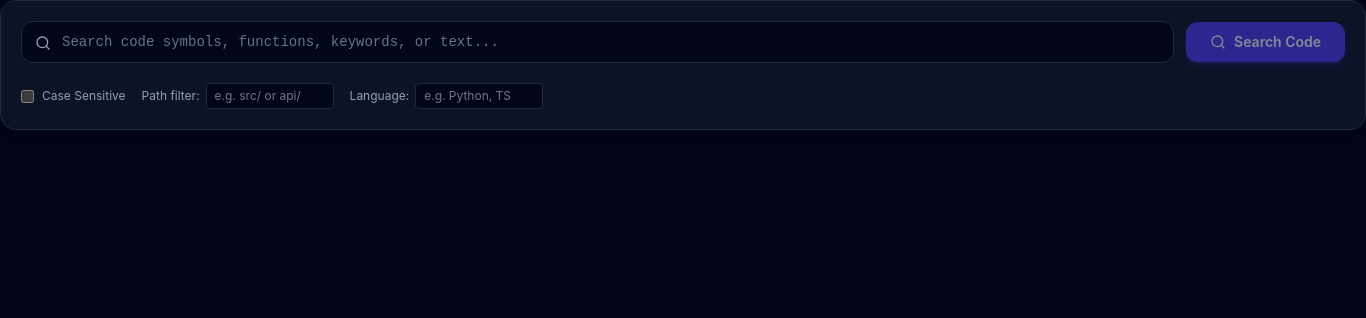
Test: CodeSearchView › displays empty state when no matches found
The width and height of the screenshot is (1366, 318).
Type "nonexistent_symbol" into the field with placeholder "Search code symbols, functions, keywords, or text..." at [598, 42], box [21, 21, 1174, 63]
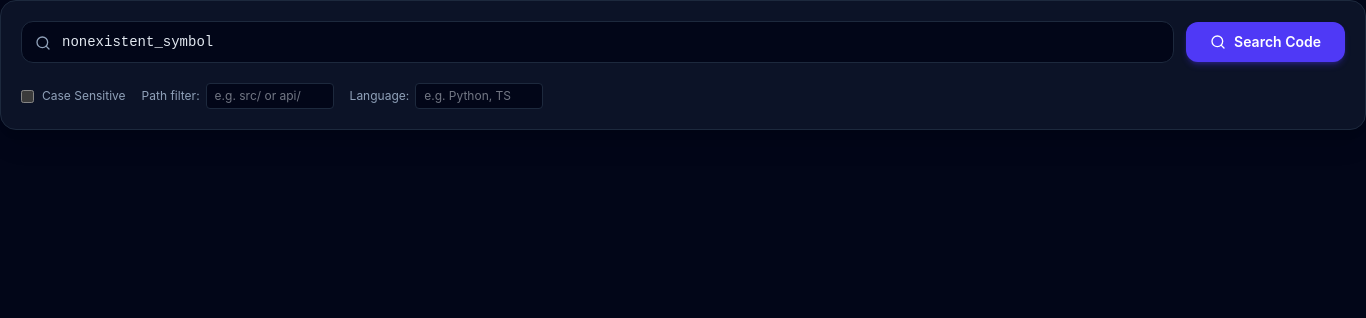
Click the button "Search Code" at [1266, 42], box [1186, 22, 1345, 62]
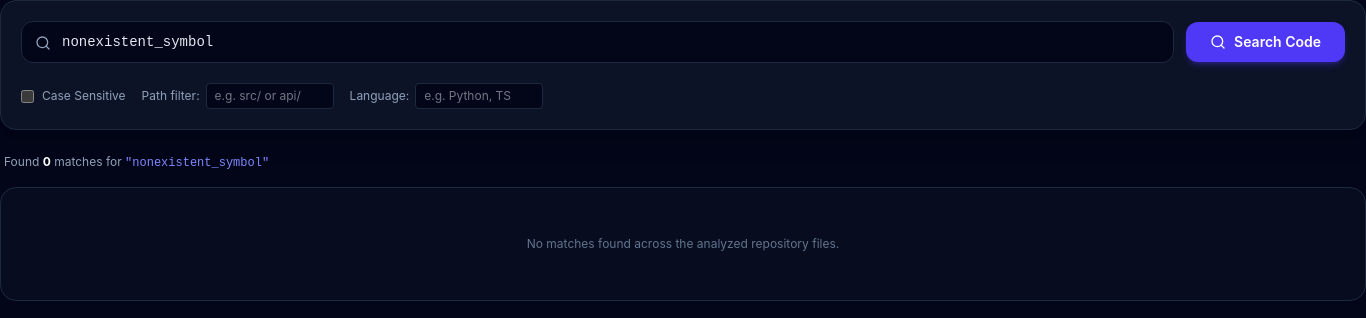
Expected: the text "No matches found across the analyzed repository files." is shown, [0, 187, 1365, 301]
